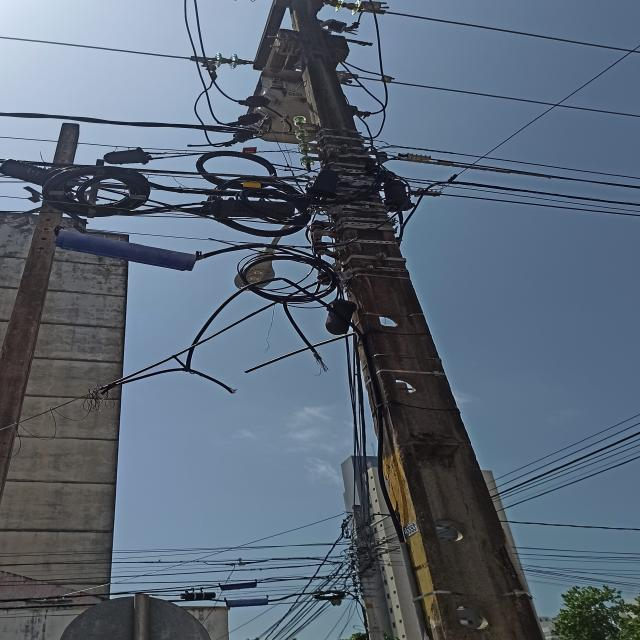Plaqueta: (242, 148, 257, 154)
